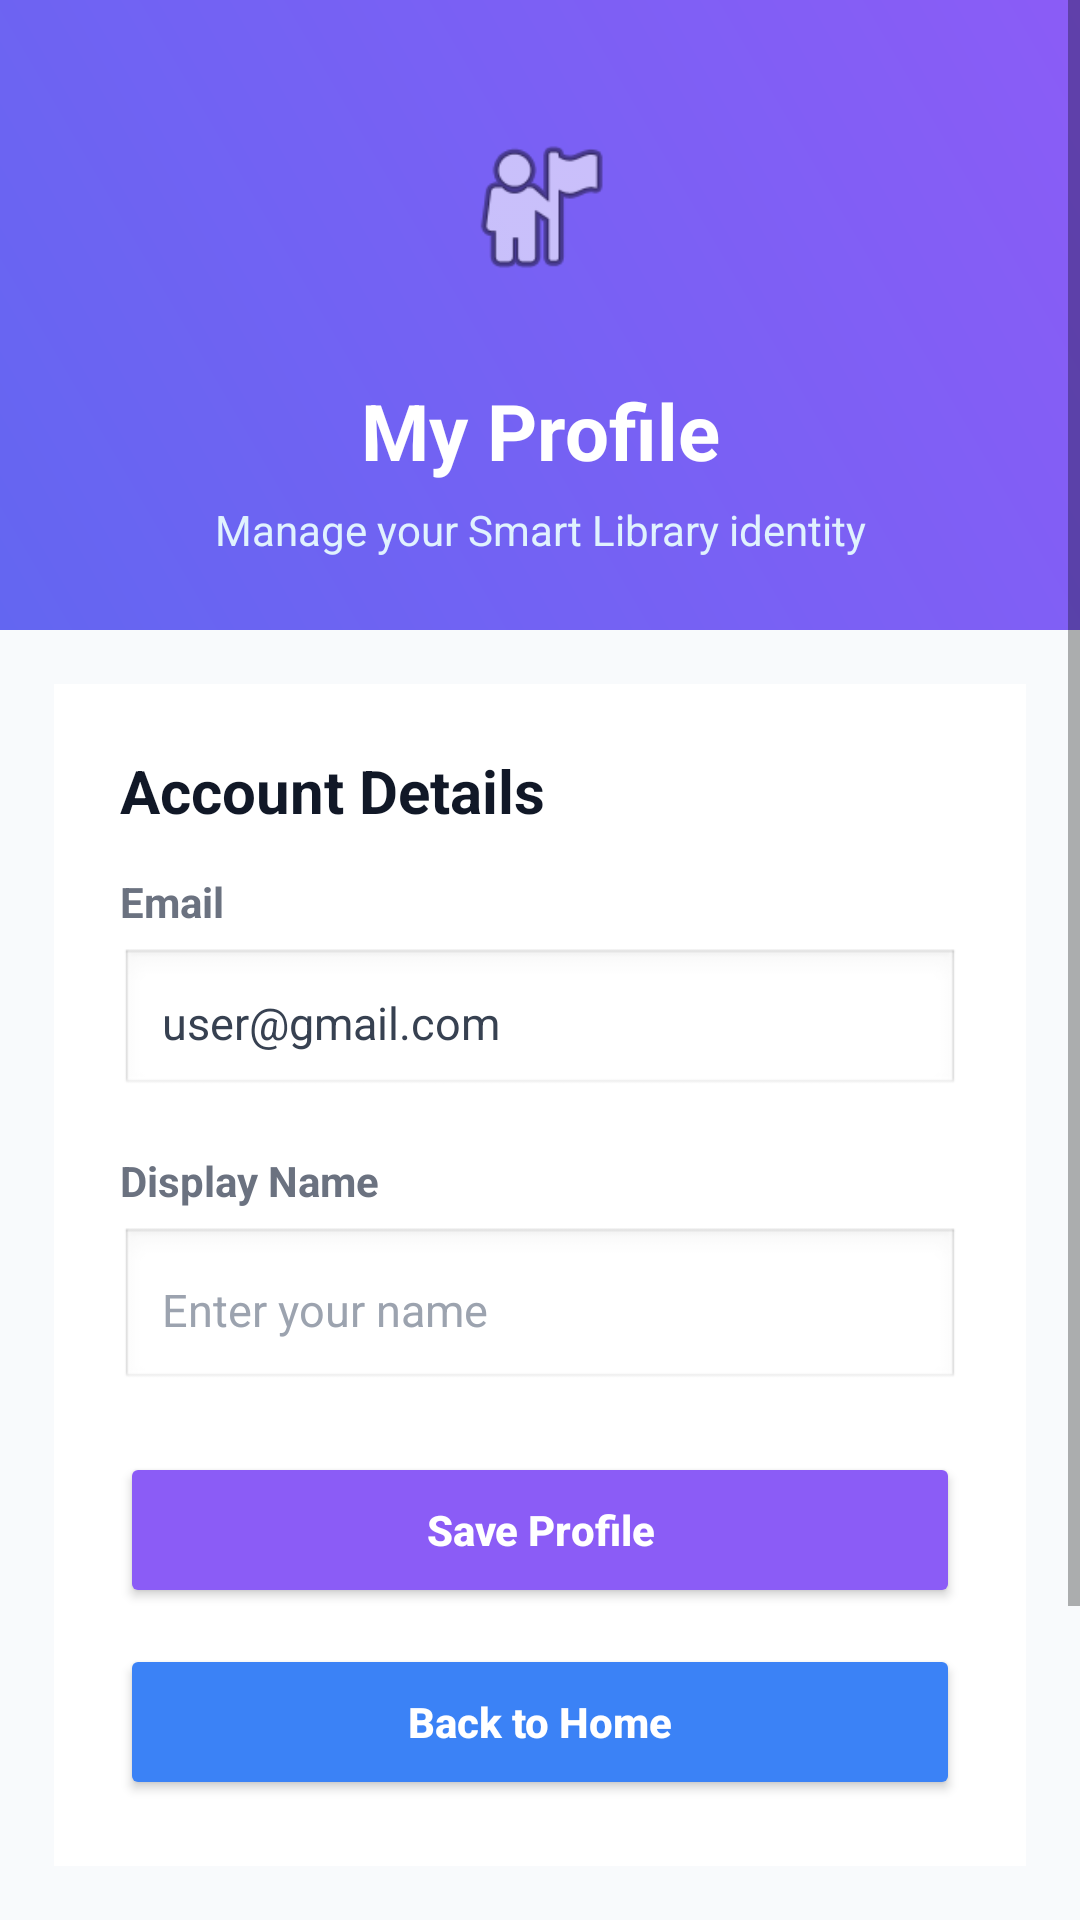

Icon bounding boxes for this 1080 x 1920 phone screenshot, format (x1, y1, x2, y2):
myplaces: (481, 146, 603, 268)
